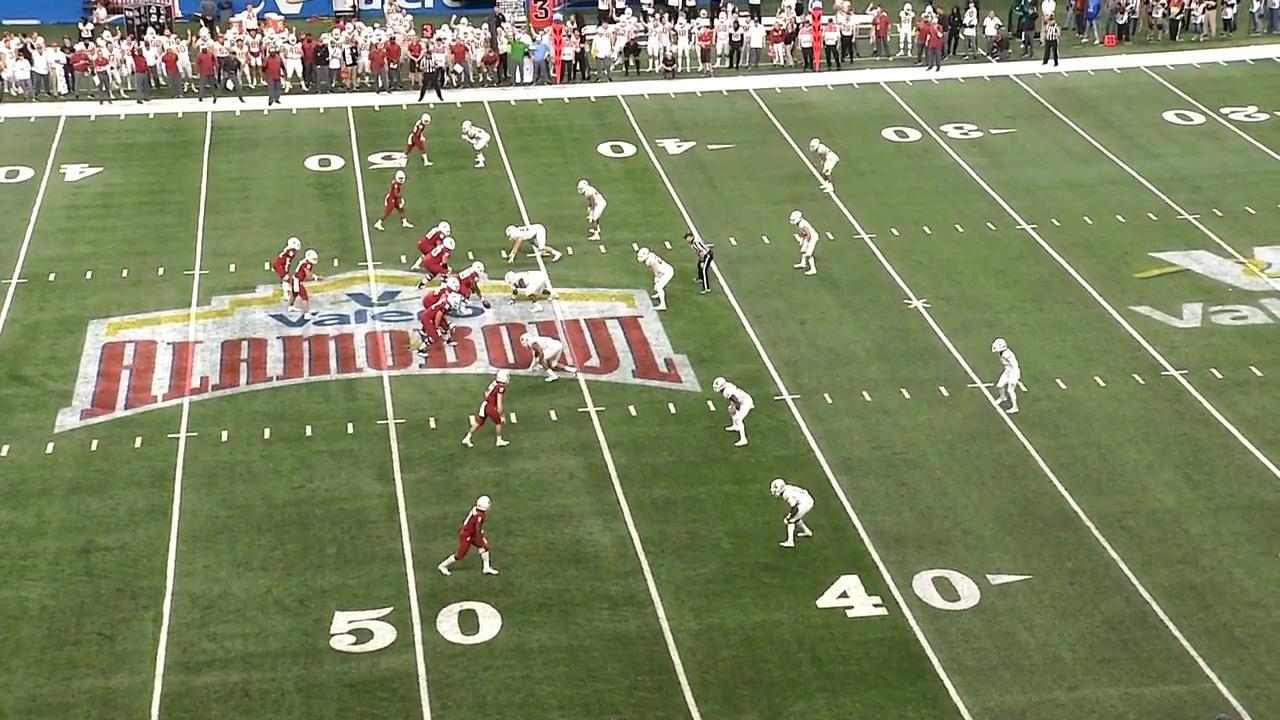player: (436, 496, 505, 582), (457, 372, 509, 454), (768, 475, 819, 554), (711, 375, 756, 451), (520, 331, 586, 382), (988, 336, 1024, 418), (416, 293, 459, 358), (641, 242, 681, 311), (506, 268, 565, 313), (501, 222, 564, 264), (272, 235, 306, 307), (288, 246, 320, 319), (377, 174, 415, 235), (787, 209, 819, 279), (451, 261, 492, 315), (400, 112, 438, 170), (576, 176, 608, 244), (810, 136, 843, 195), (414, 221, 452, 270), (421, 239, 456, 292), (462, 117, 495, 171), (423, 273, 463, 308)
ref: (684, 230, 719, 296), (418, 45, 446, 104), (1042, 16, 1066, 68)
